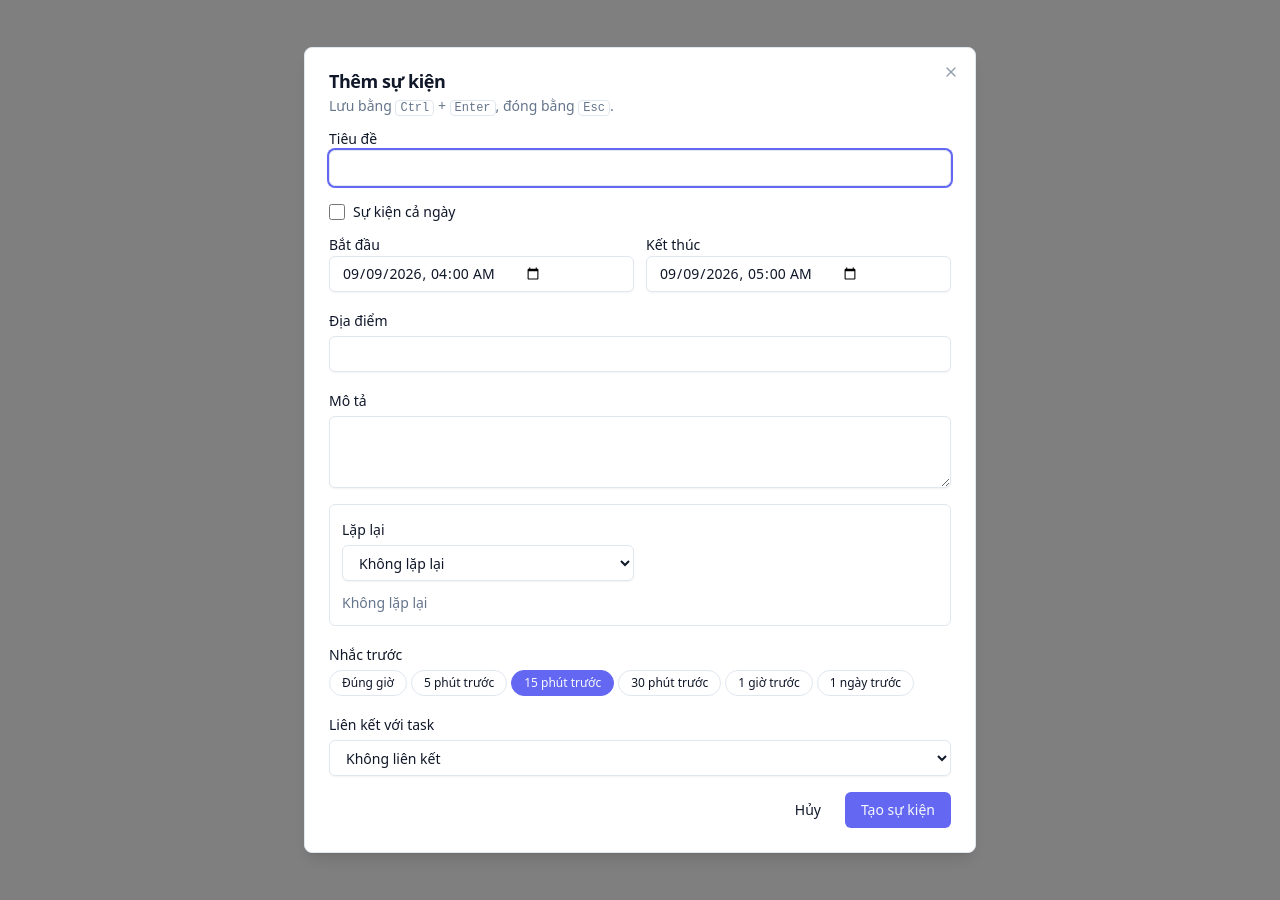
Test case: EventFormDialog › kết thúc trước lúc bắt đầu bị chặn tại form, không gửi lên backend
This screenshot has width=1280, height=900.
In the field labelled "Tiêu đề": (640,168) [329,150,951,186], type "Họp nhóm"
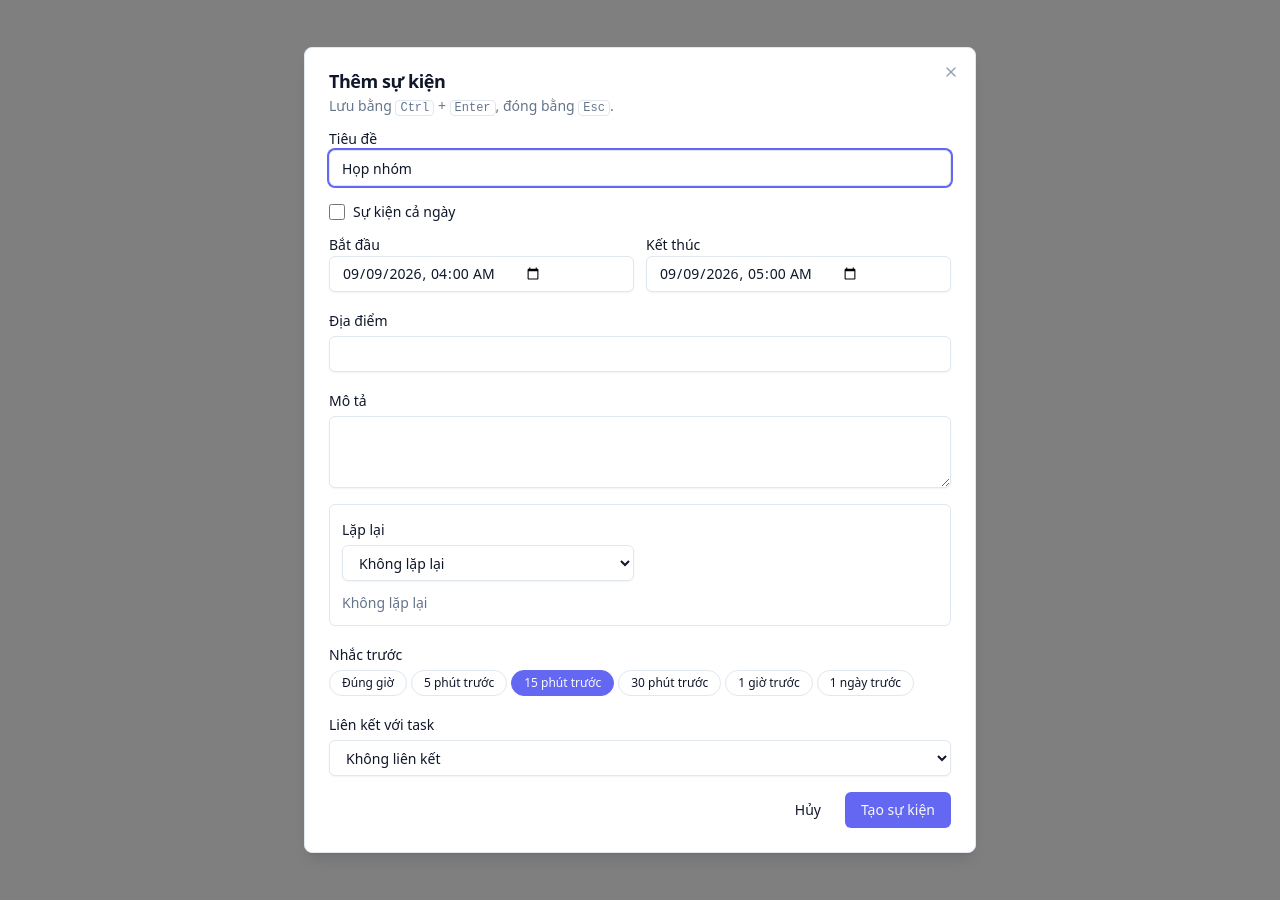
Replace the text in the field labelled "Bắt đầu" with "2026-09-20T10:00": (482,274) [329,256,634,292]
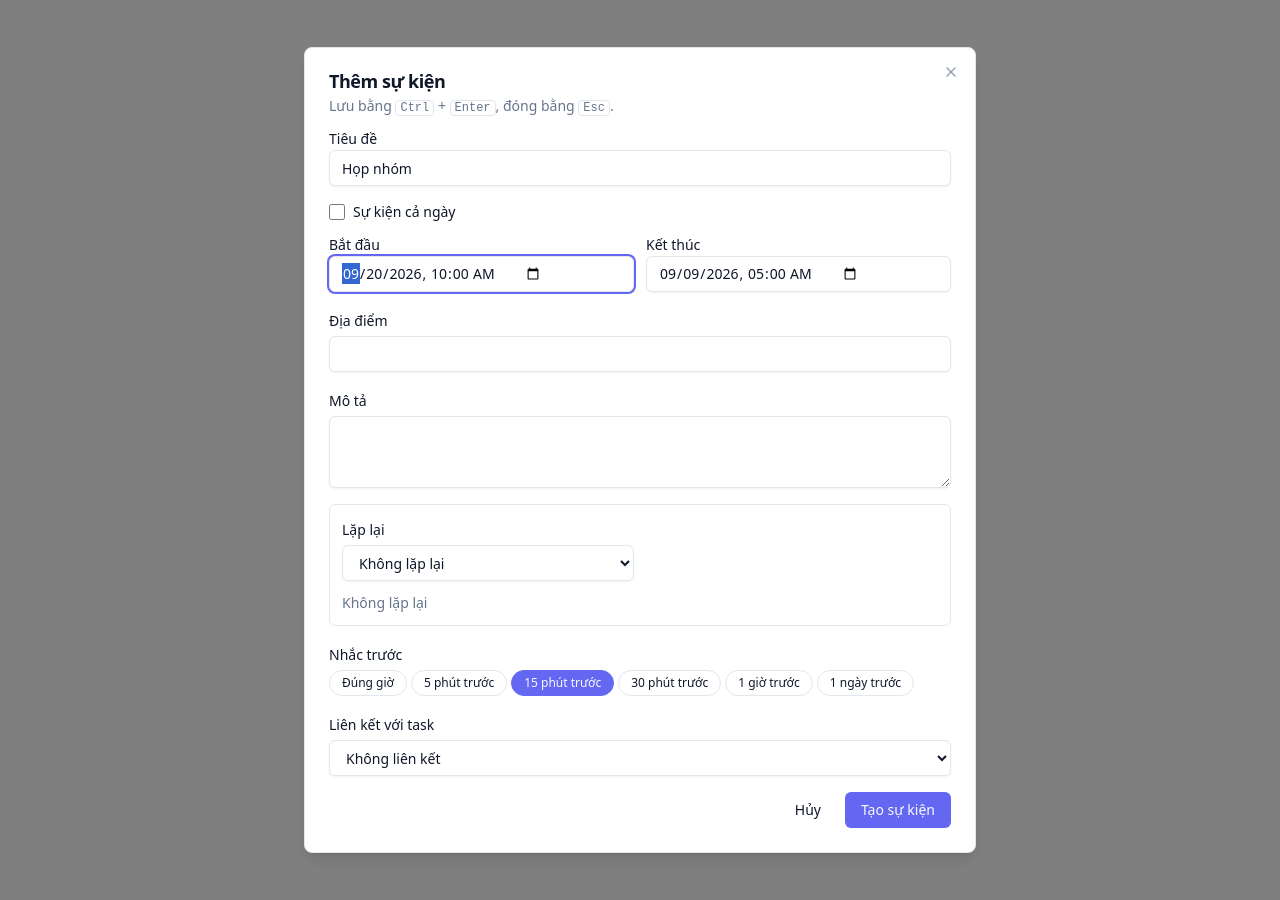
Replace the text in the field labelled "Kết thúc" with "2026-09-20T09:00": (798,274) [646,256,951,292]
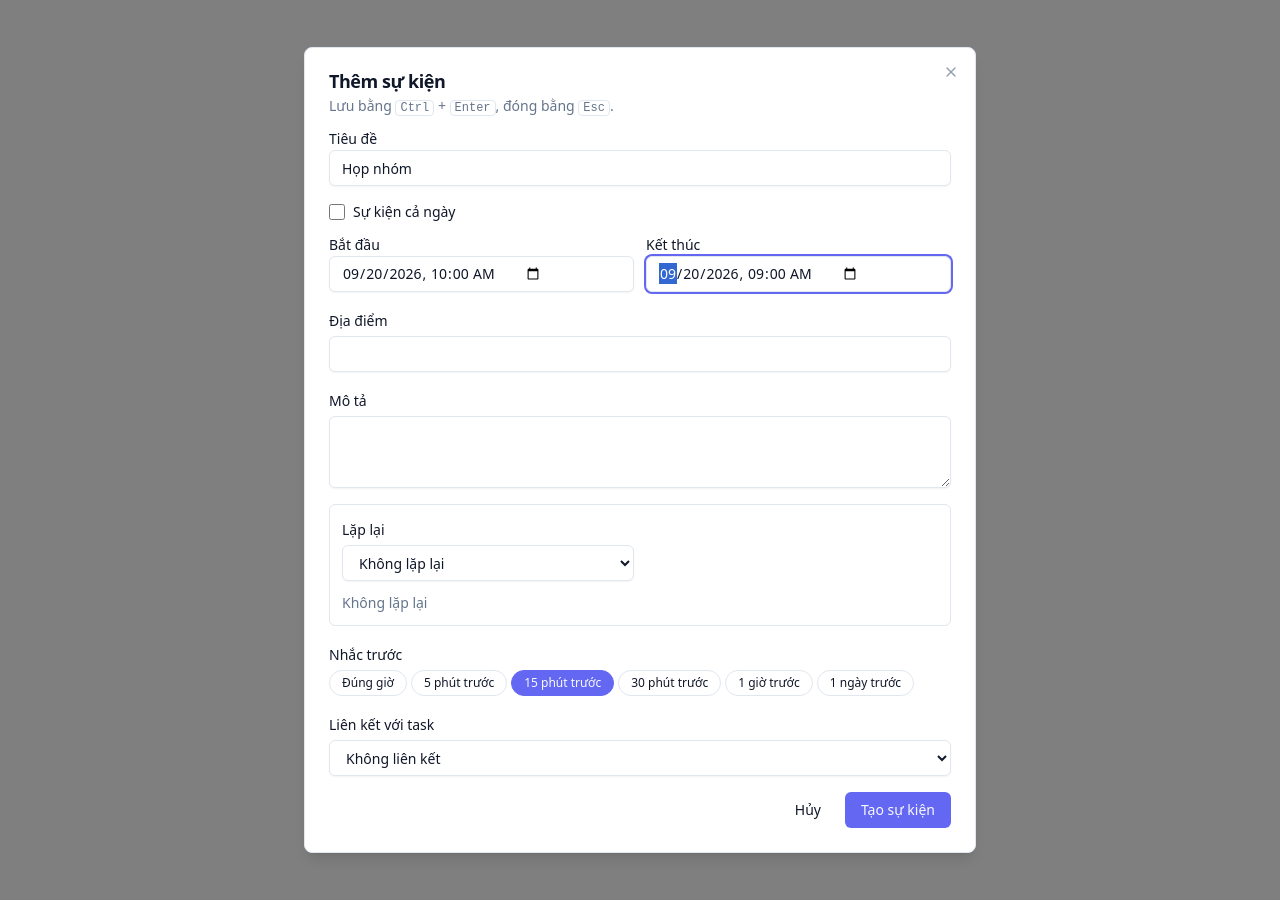
Click the button "Tạo sự kiện": (898,810) [845,792,951,828]
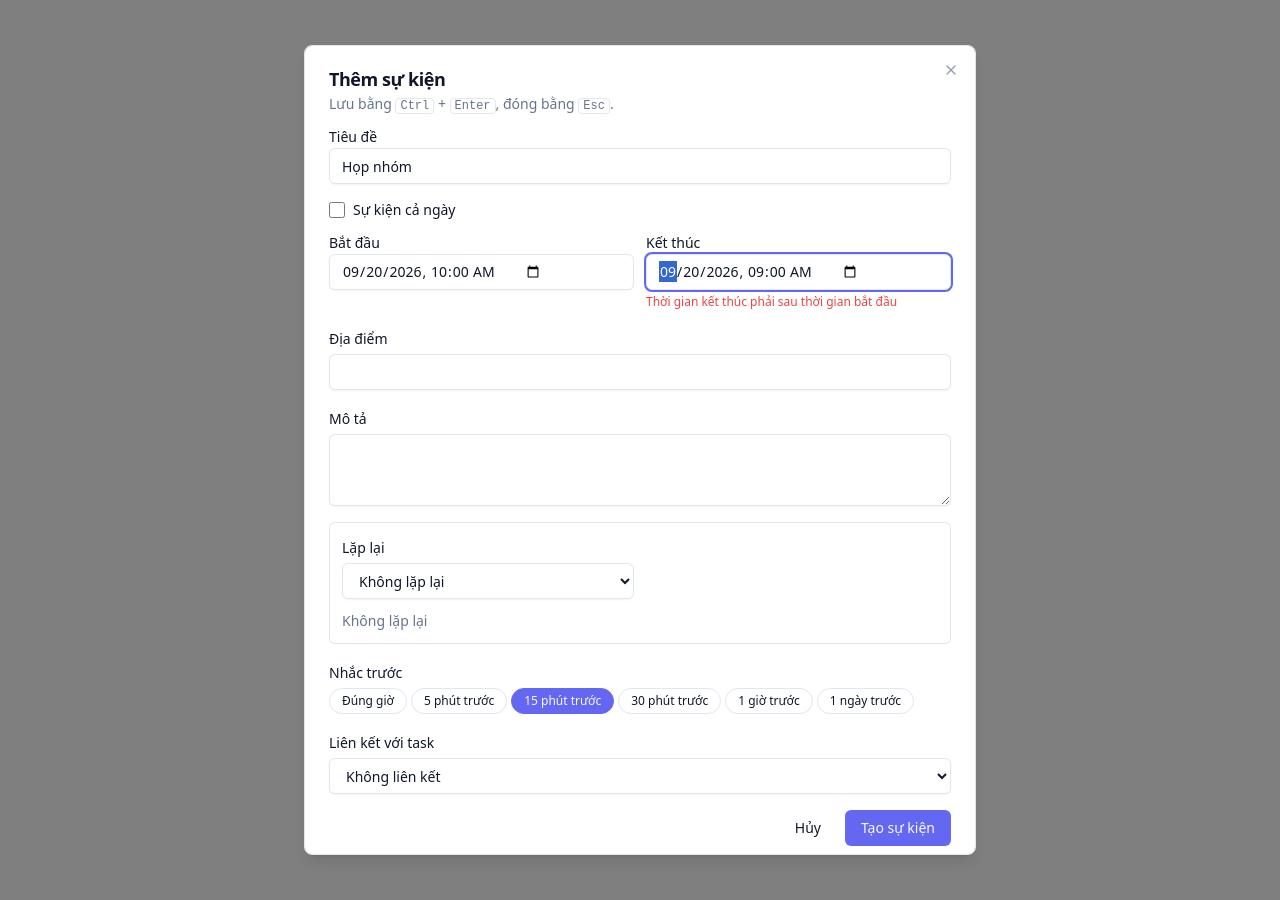
Now the text "Thời gian kết thúc phải sau thời gian bắt đầu" is shown, box [646,293,897,310]
